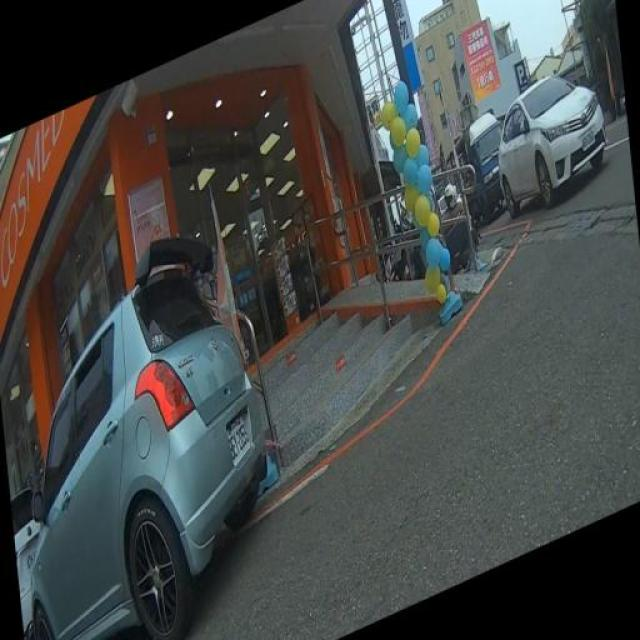Legalparking: (11, 42, 614, 633)
